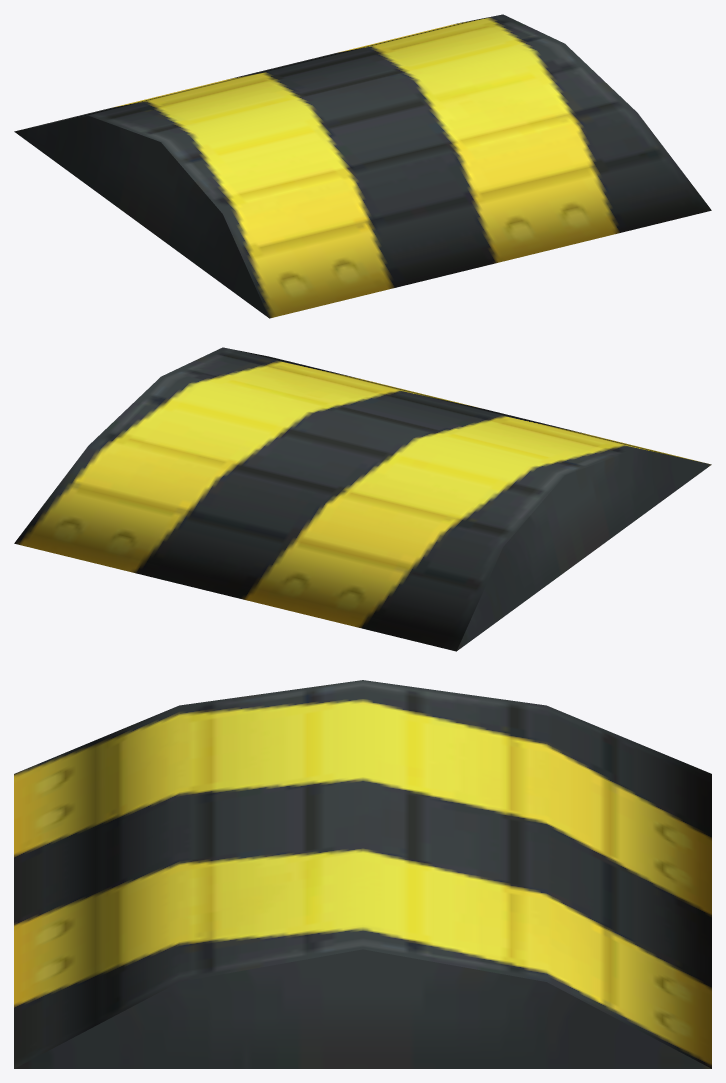
File: speedbump.obj
The picture shows the model from 3 angles, top to bottom: view 1: azimuth 30°, elevation 25°; view 2: azimuth 150°, elevation 25°; view 3: azimuth 270°, elevation 25°; orthographic projection. The views are drawn at different scales.
Parts seen in each view (by area): view 1: speedbump; view 2: speedbump; view 3: speedbump.
Boxes of the visible parts, x1,y1,x2,y2 form: speedbump: (14,14,711,318); speedbump: (14,347,711,651); speedbump: (14,680,711,1068).
Bounding box in the file's own units: 1 × 0.1687 × 1.
1 material, 1 textured.
